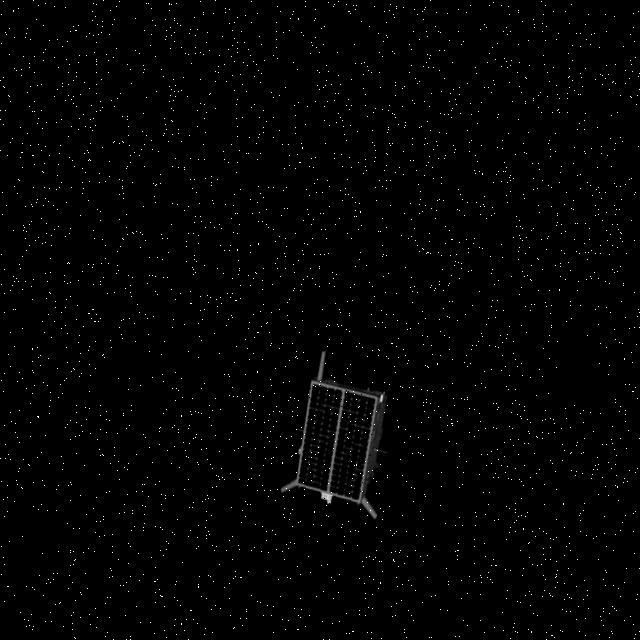satellite: (284, 350, 400, 520)
